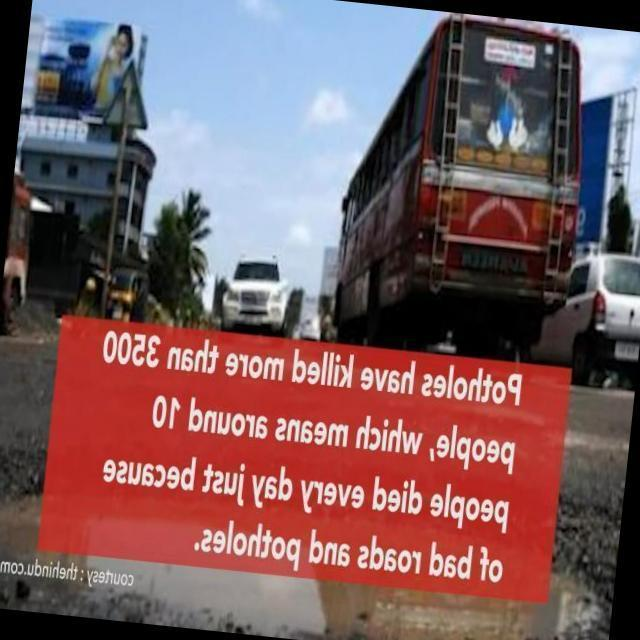Pothole: (0, 466, 602, 640)
